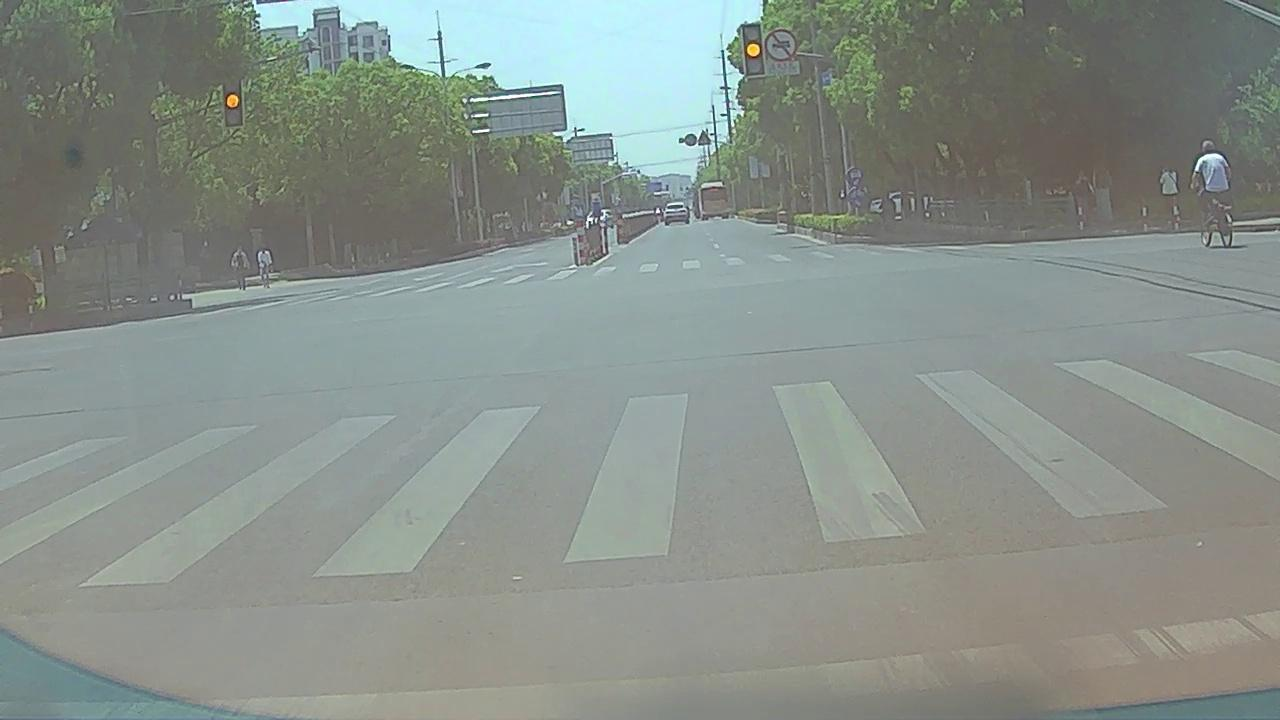traffic_light: (744, 26, 765, 76), (226, 80, 241, 127)
